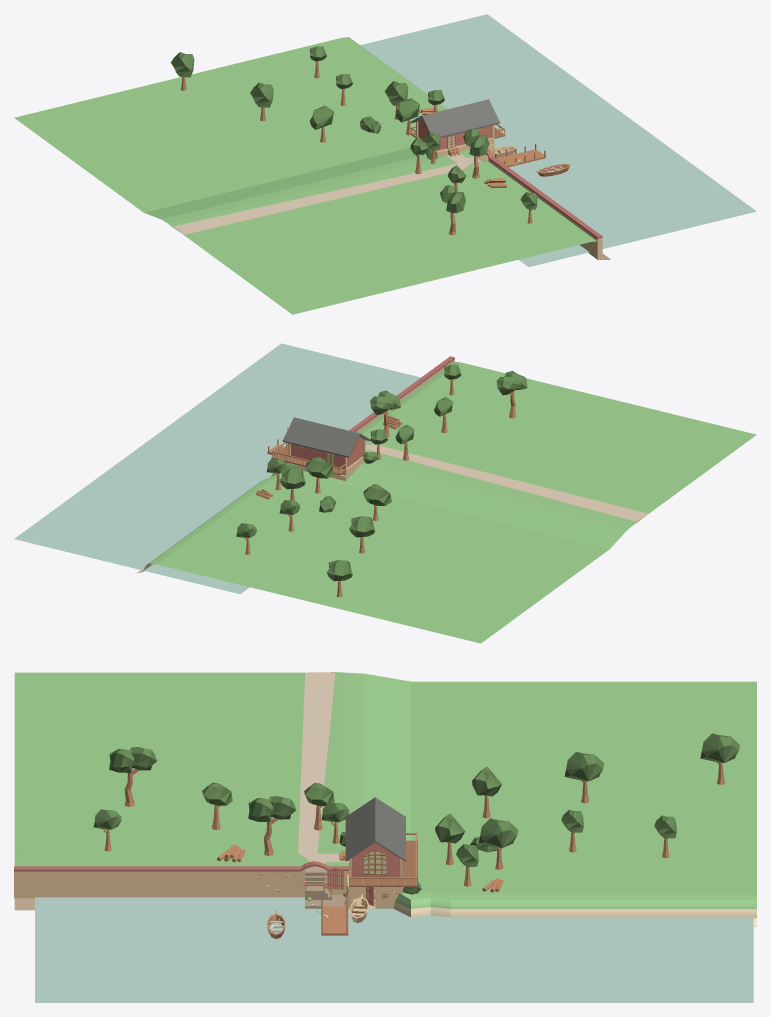
File: Low_Poly_Boat_Yard.fbx
3 views of the same model, one above another, from view 1: azimuth 30°, elevation 25°; view 2: azimuth 150°, elevation 25°; view 3: azimuth 270°, elevation 25° (orthographic). The views are drawn at different scales.
Visible parts, largest first — view 1: Ground, Water, House, Wall; view 2: Ground, Water, House, Wall; view 3: Ground, Water, Wall, House, Yard, Tree_leaves.006, Tree_leaves.002, Tree_leaves.010, Tree_leaves.001, Tree_leaves.008.
Part boxes in pixels (<box>): Ground: <box>14,37,610,314</box>; Water: <box>360,14,756,266</box>; House: <box>410,99,505,160</box>; Wall: <box>482,149,602,258</box>; Ground: <box>137,362,756,643</box>; Water: <box>14,343,420,594</box>; House: <box>271,417,370,480</box>; Wall: <box>349,356,454,432</box>; Ground: <box>14,672,756,926</box>; Water: <box>35,897,753,1002</box>; Wall: <box>14,861,348,898</box>; House: <box>345,797,417,908</box>; Yard: <box>305,895,348,935</box>; Tree_leaves.006: <box>564,751,604,781</box>; Tree_leaves.002: <box>478,818,518,847</box>; Tree_leaves.010: <box>700,733,740,762</box>; Tree_leaves.001: <box>435,813,465,843</box>; Tree_leaves.008: <box>472,766,501,796</box>.
Size of the model in its own units: 9819 by 1320 by 10028.
Materials: 2 (2 with a texture image).
